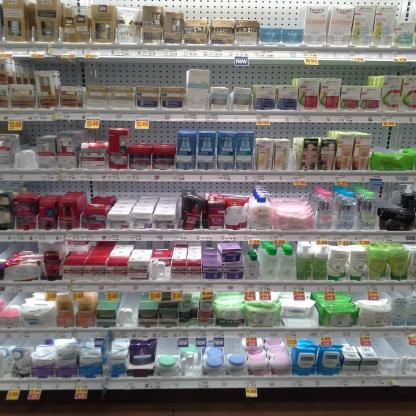Void: (88, 57, 173, 81), (96, 182, 251, 195), (217, 59, 287, 85), (134, 123, 179, 148), (375, 124, 416, 148), (343, 63, 370, 81)
